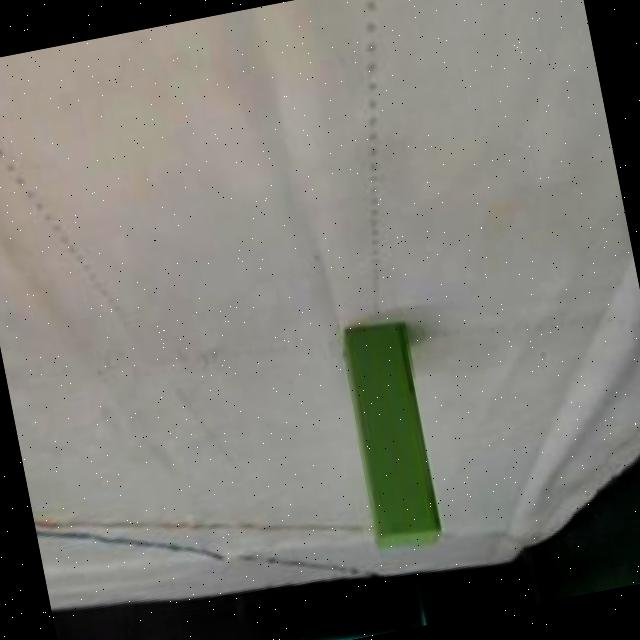greenbox: (324, 304, 454, 562)
